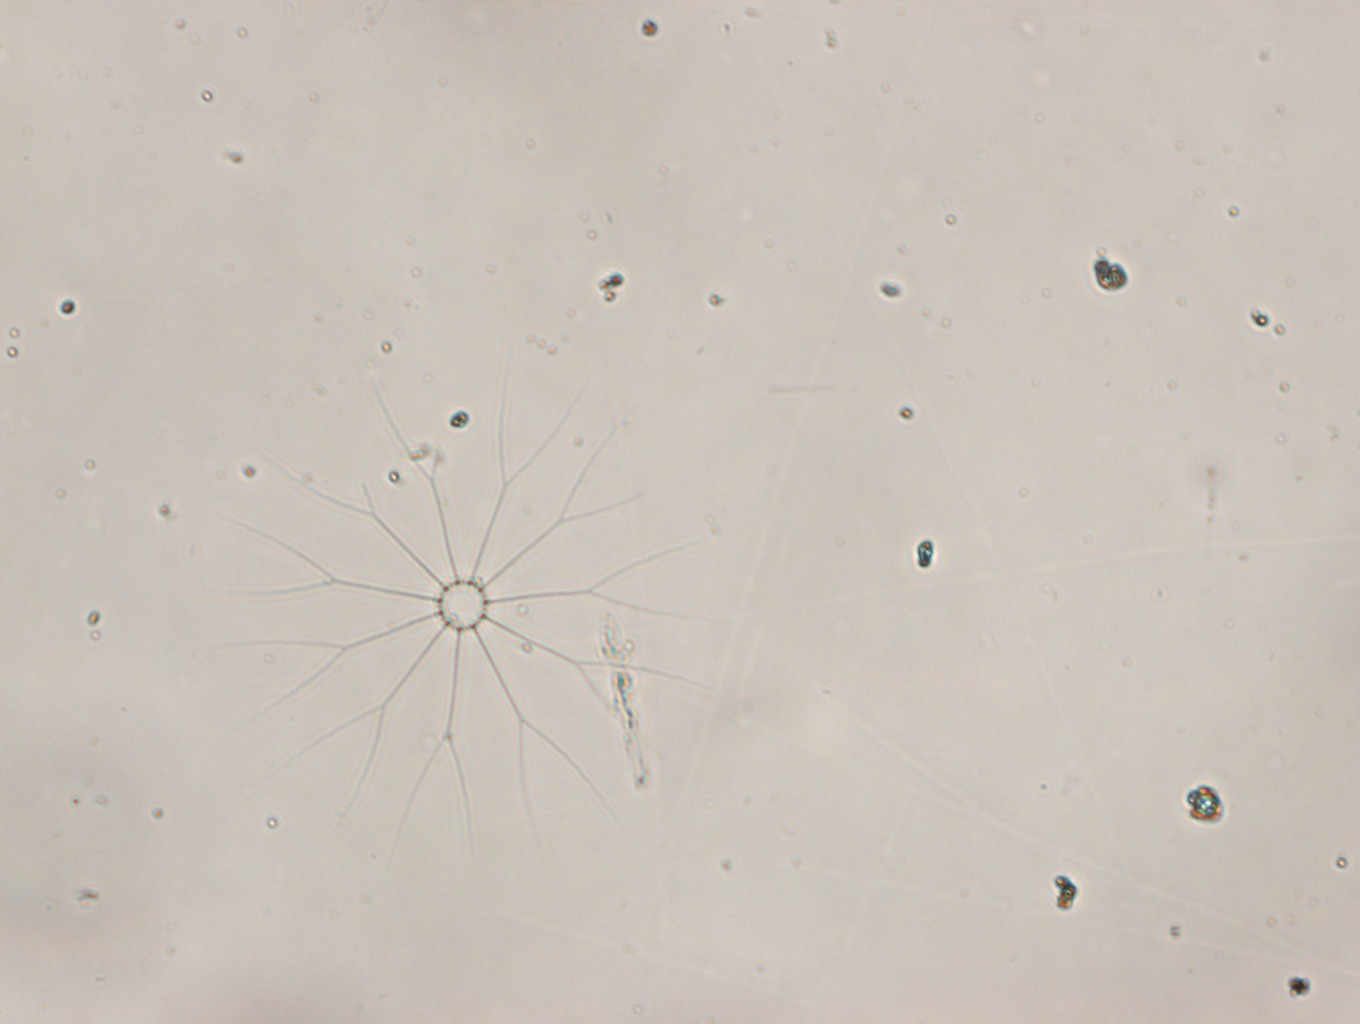bacteriastrum: (232, 374, 718, 853)
